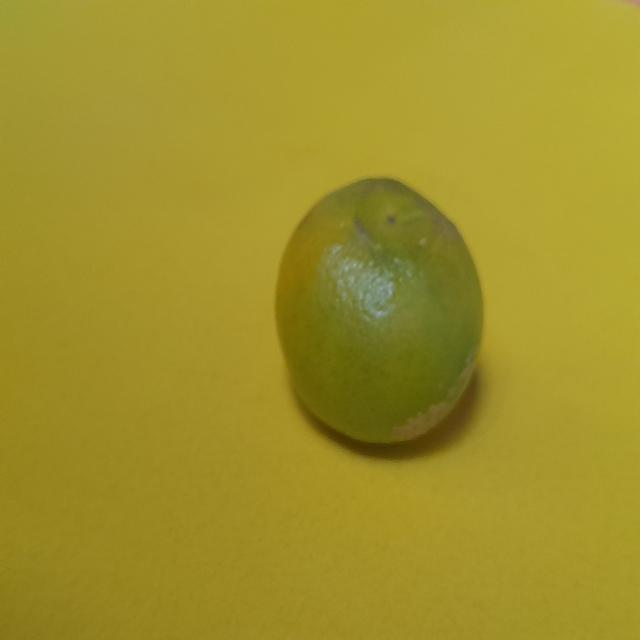greening: (275, 164, 485, 493)
